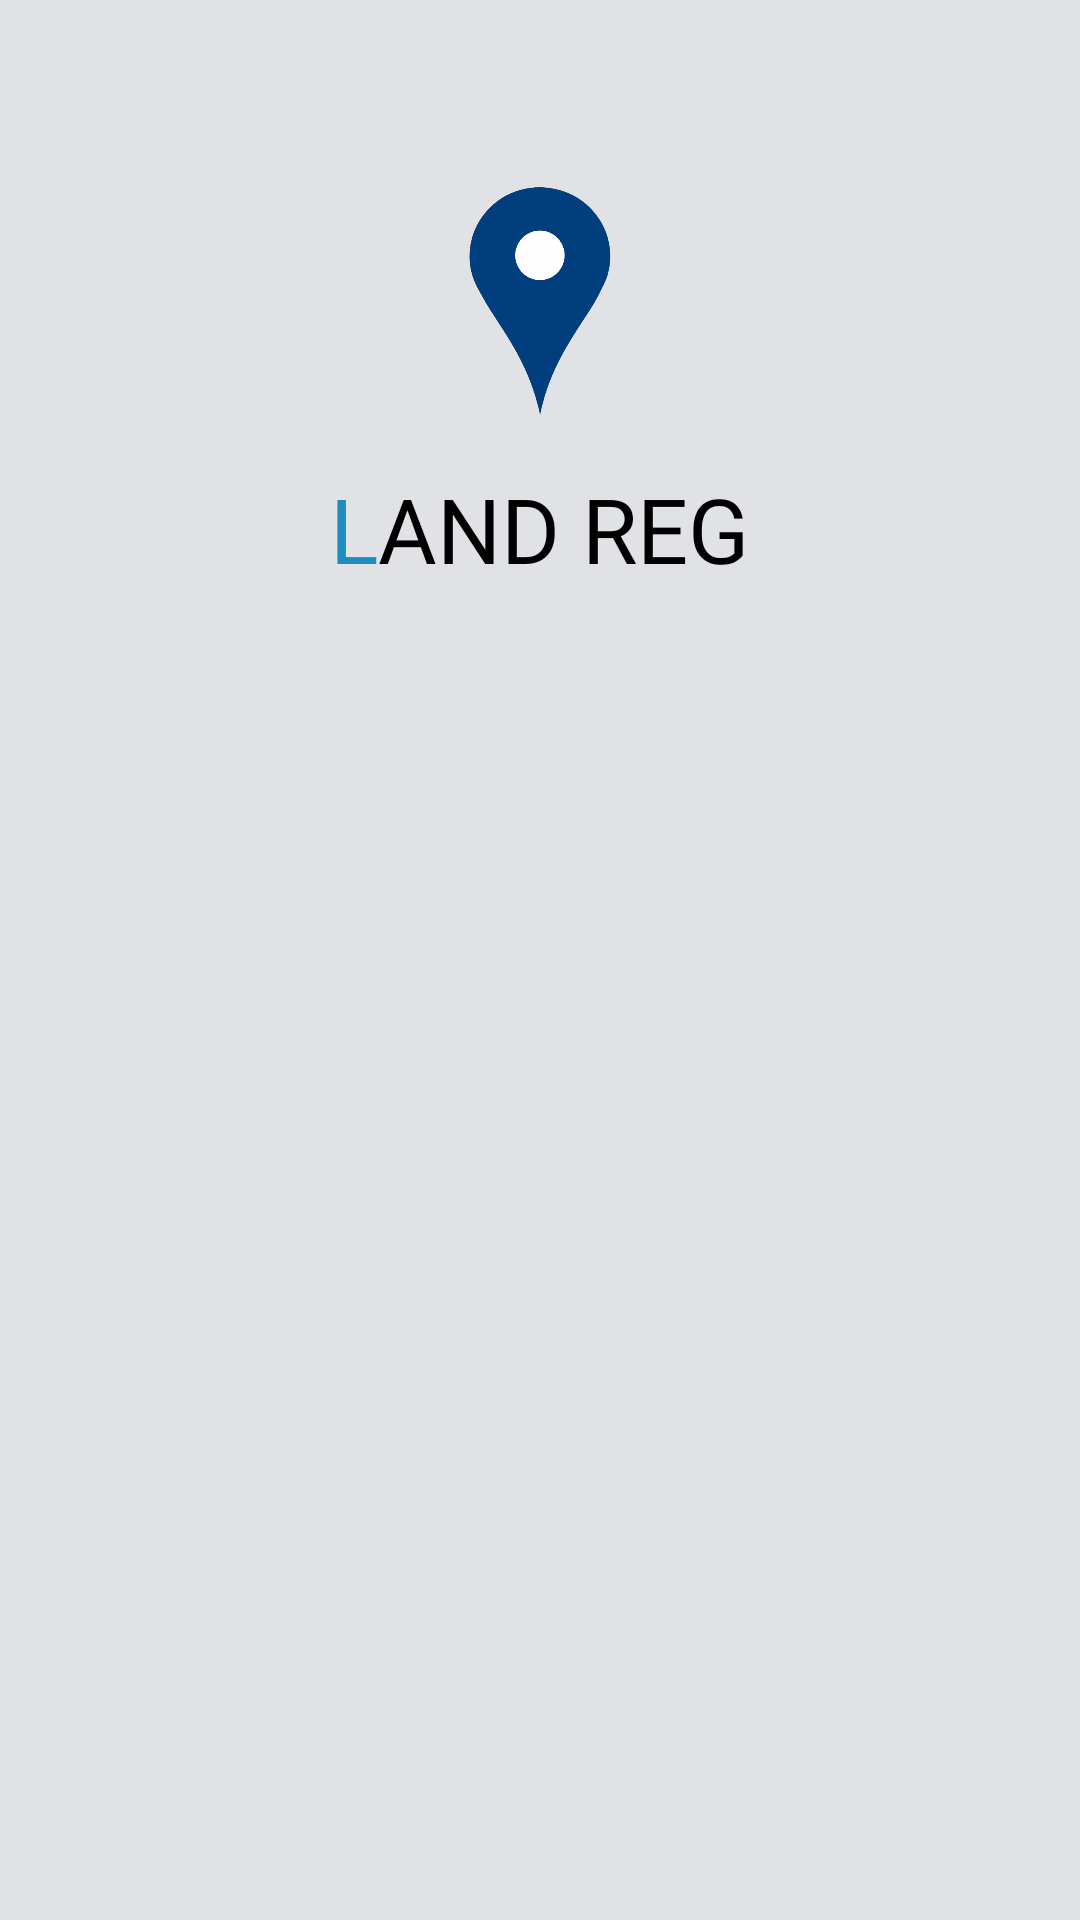

Named icons in this screenshot (1080px×1920px) and their bounding boxes, (x1, y1, x2, y2):
map: (469, 187, 611, 414)
